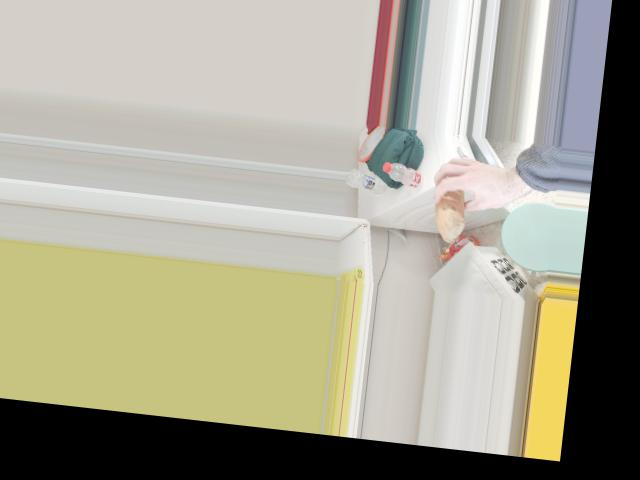sweet_potato: (435, 178, 475, 228)
